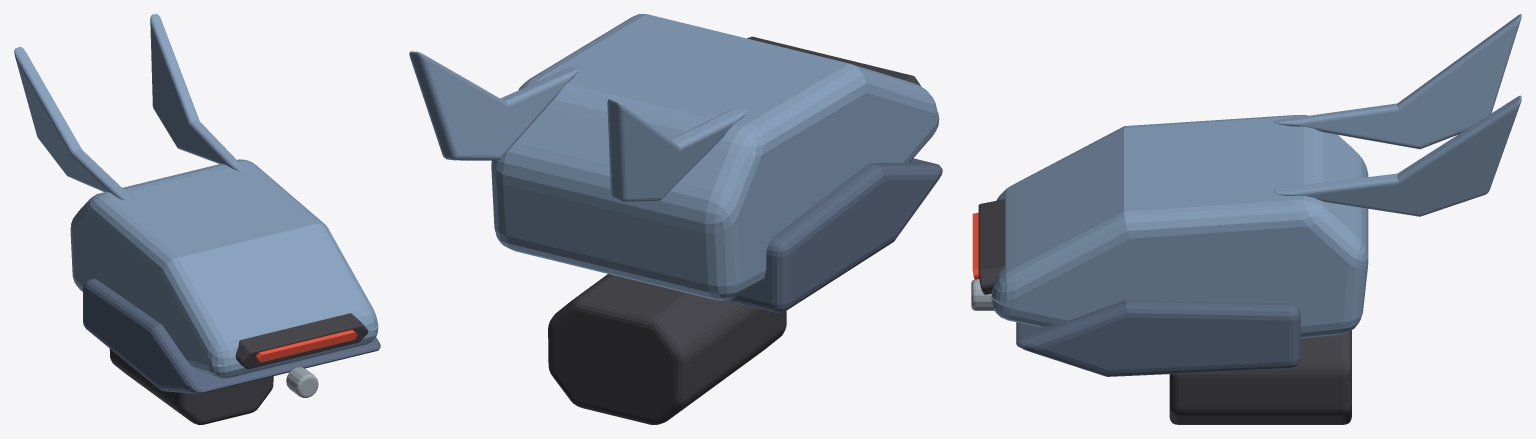
The model's file is recon_sleek_head.glb.
The picture shows the model from 3 angles, left to right: view 1: azimuth 30°, elevation 25°; view 2: azimuth 150°, elevation 25°; view 3: azimuth 270°, elevation 25°; orthographic projection. The views are drawn at different scales.
Parts seen in each view (by area): view 1: Helmet, Cheek, Fin, Fin1, Neck, Visor, VisorGlow, Lens; view 2: Helmet, Neck, Cheek, Fin, Fin1, Visor; view 3: Helmet, Cheek, Neck, Fin1, Fin, Visor, Lens.
Boxes of the visible parts, x1=… form: Helmet: x1=70, y1=159, x2=378, y2=378; Cheek: x1=83, y1=278, x2=380, y2=393; Fin: x1=150, y1=14, x2=245, y2=171; Fin1: x1=14, y1=47, x2=130, y2=200; Neck: x1=109, y1=349, x2=273, y2=424; Visor: x1=235, y1=313, x2=368, y2=369; VisorGlow: x1=255, y1=330, x2=357, y2=362; Lens: x1=286, y1=367, x2=318, y2=397; Helmet: x1=491, y1=14, x2=939, y2=300; Neck: x1=548, y1=274, x2=786, y2=424; Cheek: x1=726, y1=158, x2=942, y2=312; Fin: x1=409, y1=51, x2=578, y2=160; Fin1: x1=607, y1=99, x2=746, y2=202; Visor: x1=747, y1=36, x2=921, y2=86; Helmet: x1=991, y1=115, x2=1368, y2=338; Cheek: x1=1016, y1=299, x2=1300, y2=376; Neck: x1=1169, y1=330, x2=1351, y2=424; Fin1: x1=1274, y1=14, x2=1521, y2=149; Fin: x1=1274, y1=95, x2=1521, y2=216; Visor: x1=978, y1=199, x2=1004, y2=294; Lens: x1=971, y1=279, x2=994, y2=310.
Size of the model in its own units: 1.2 by 1.71 by 2.42.
